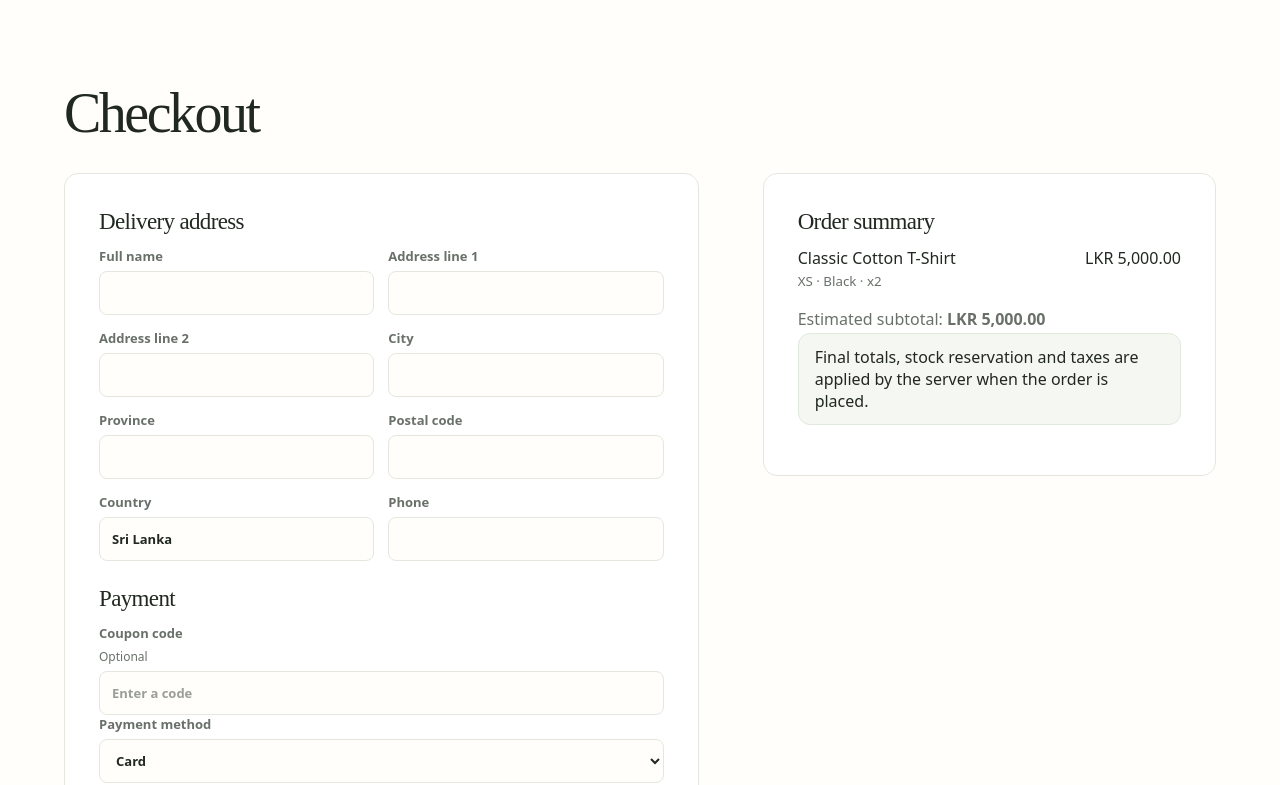
Test: CheckoutPage › places the order and shows a confirmation
Expected: the heading "Checkout" is shown, x1=64 y1=82 x2=258 y2=144
In the field labelled "Full name": x=237, y=293 x1=99 y1=271 x2=374 y2=315, type "Asha Perera"
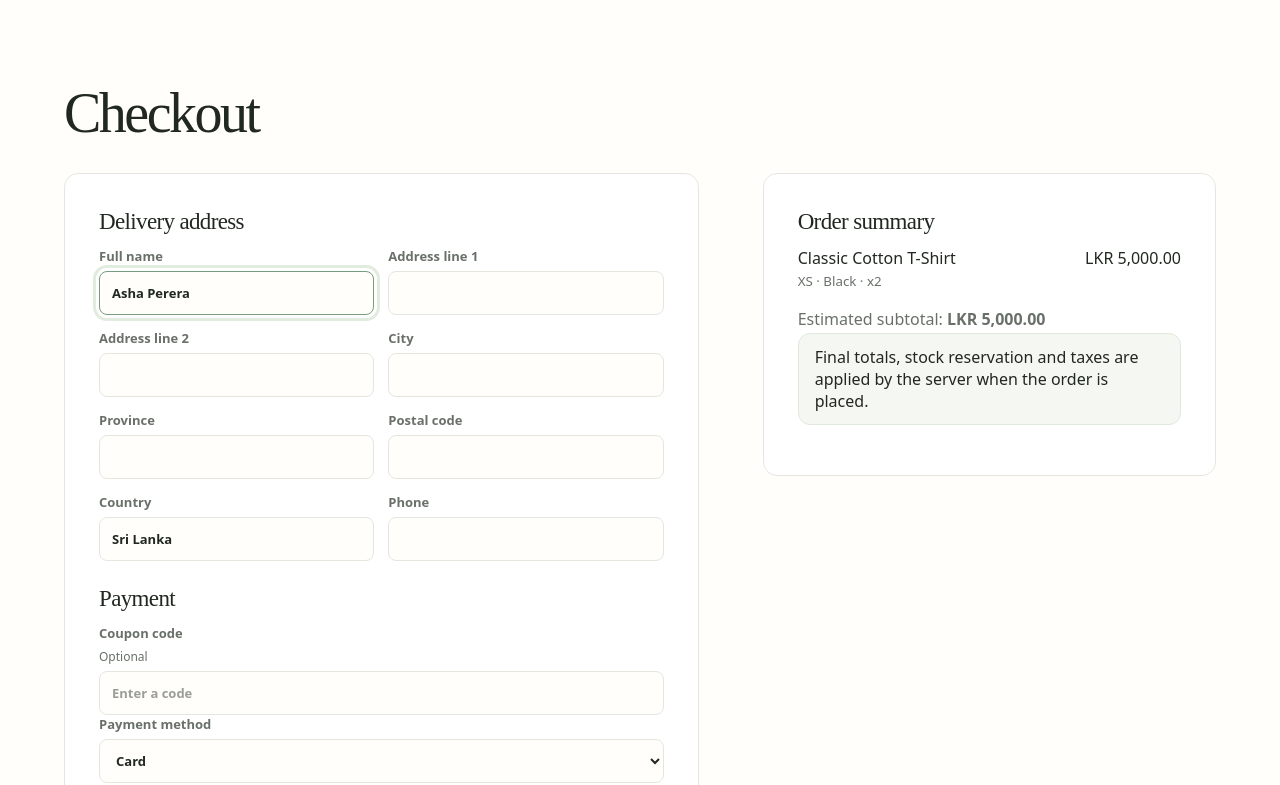
In the field labelled "Address line 1": x=526, y=293 x1=388 y1=271 x2=664 y2=315, type "12 Galle Road"
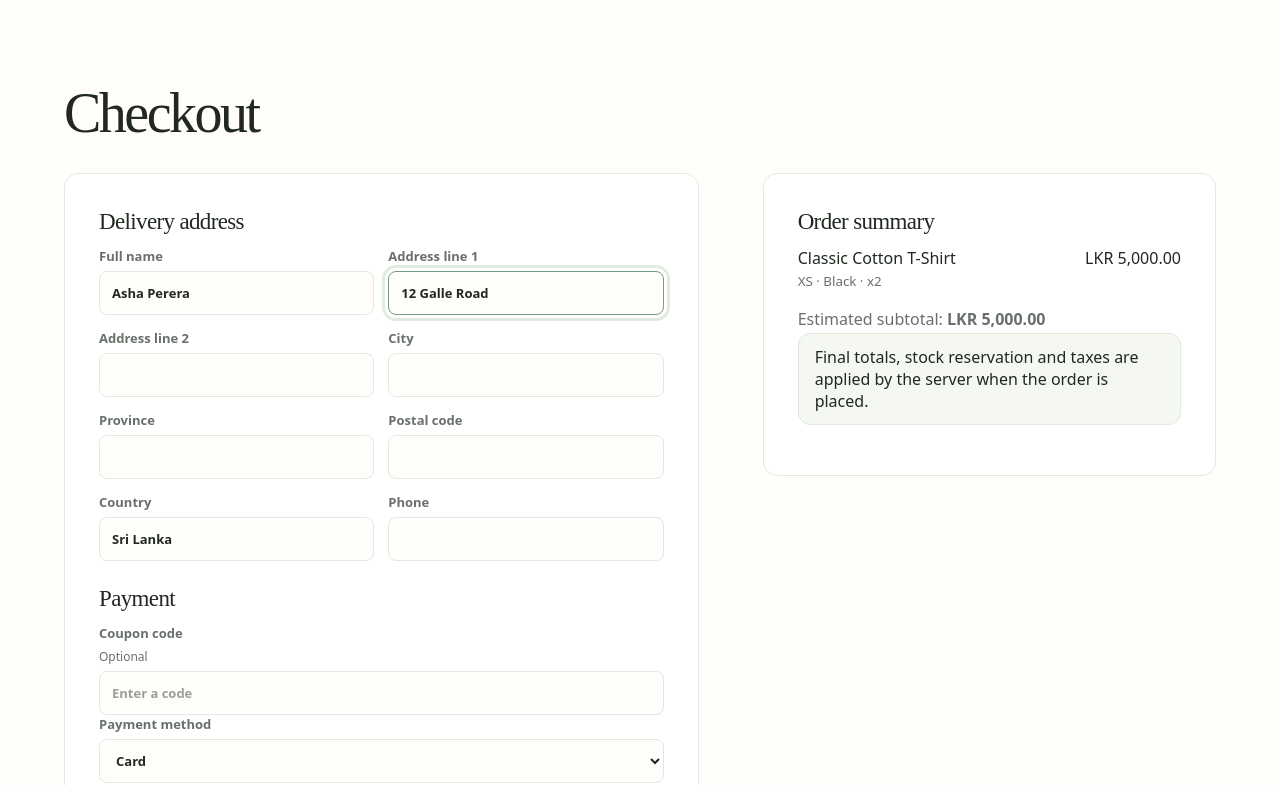
In the field labelled "City": x=526, y=375 x1=388 y1=353 x2=664 y2=397, type "Colombo"
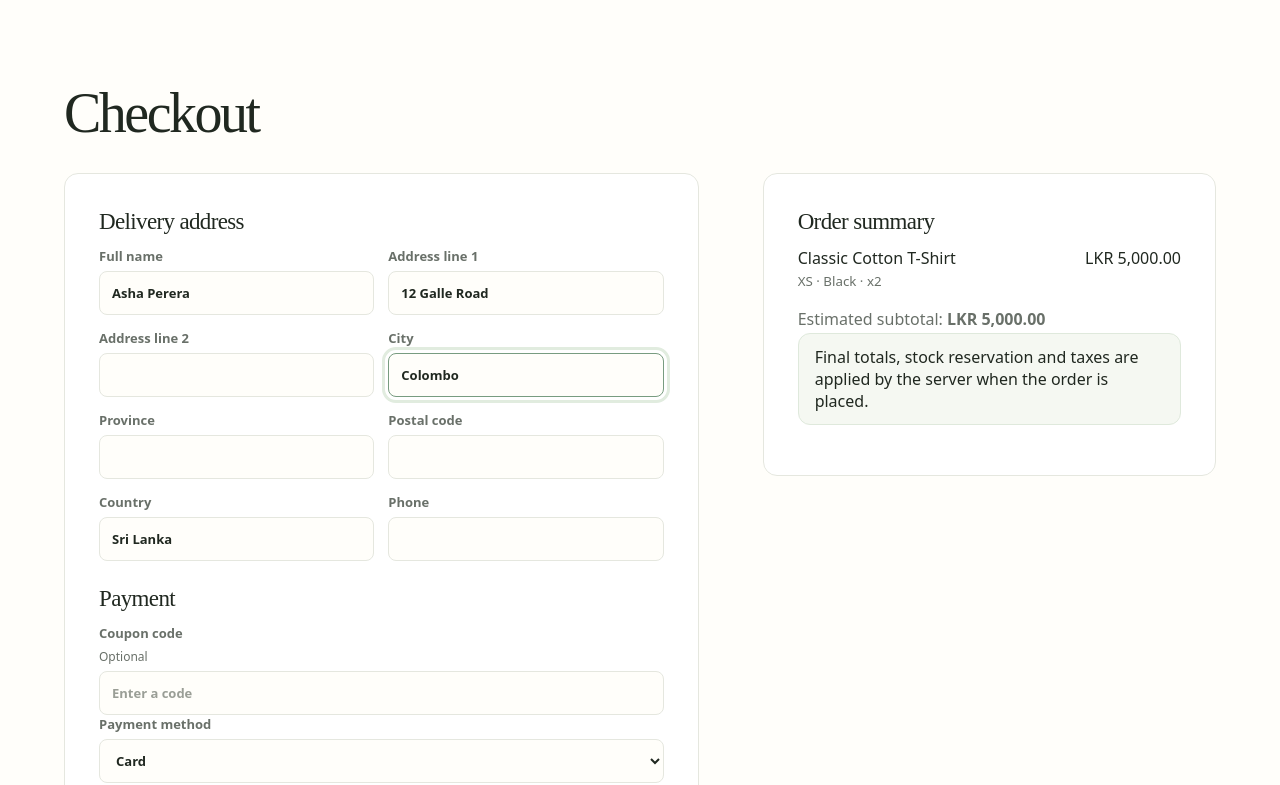
In the field labelled "Postal code": x=526, y=457 x1=388 y1=435 x2=664 y2=479, type "00300"
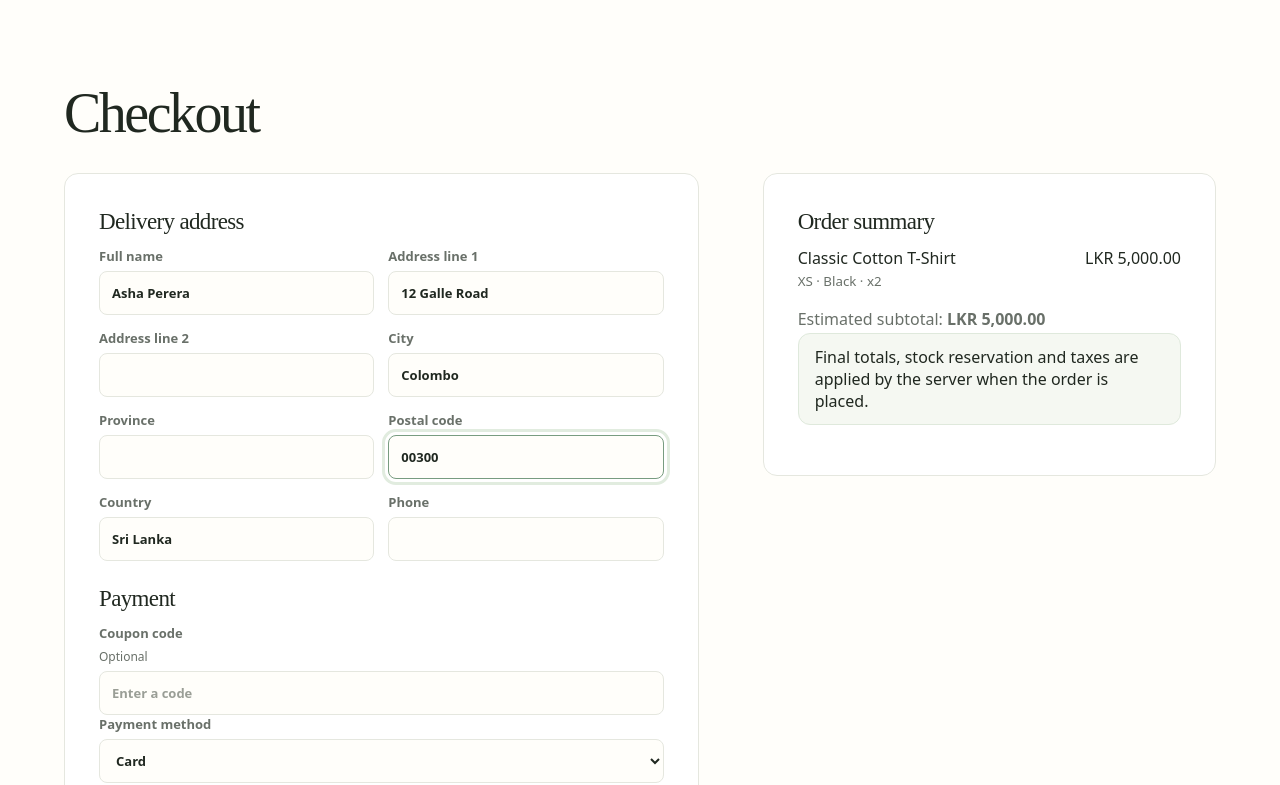
In the field labelled "Coupon code Optional": x=381, y=693 x1=99 y1=671 x2=664 y2=715, type "summer20"
(page scrolled)
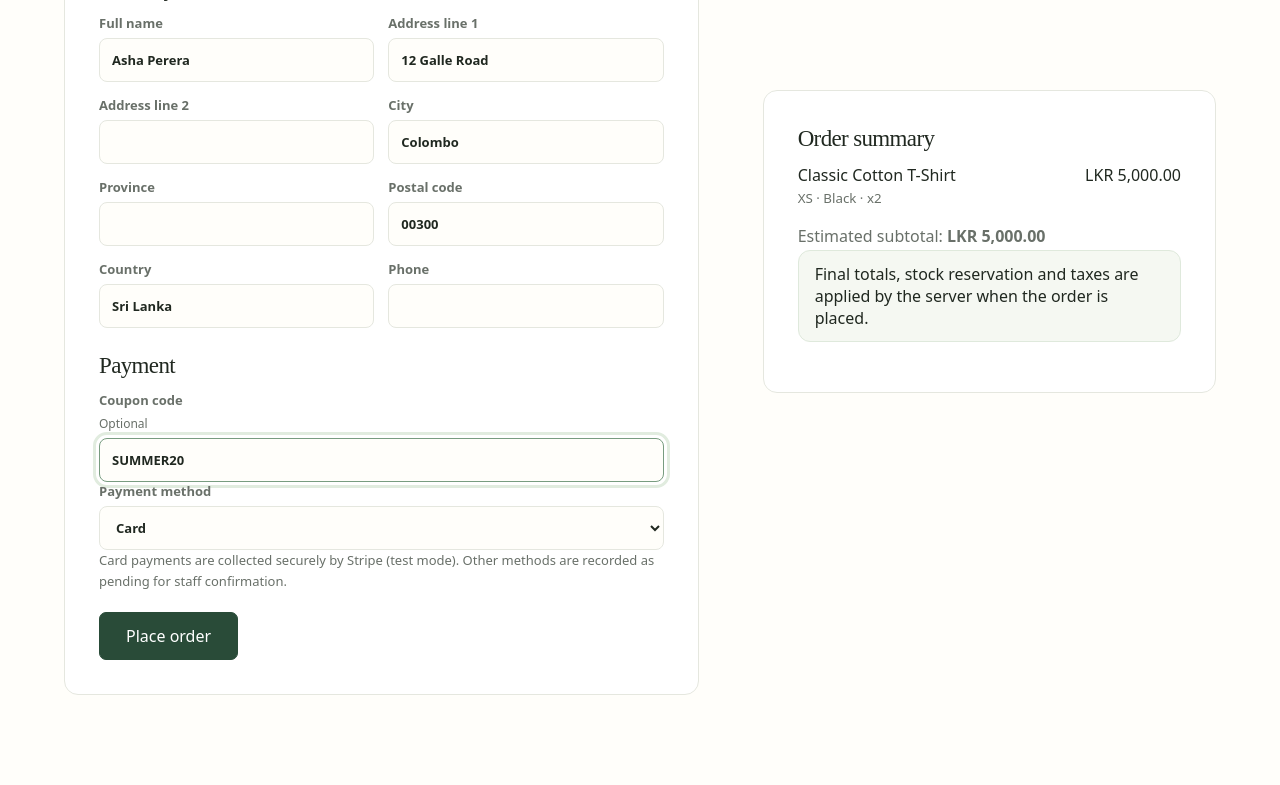
Click the button "Place order": x=169, y=636 x1=99 y1=612 x2=238 y2=660
(page scrolled)
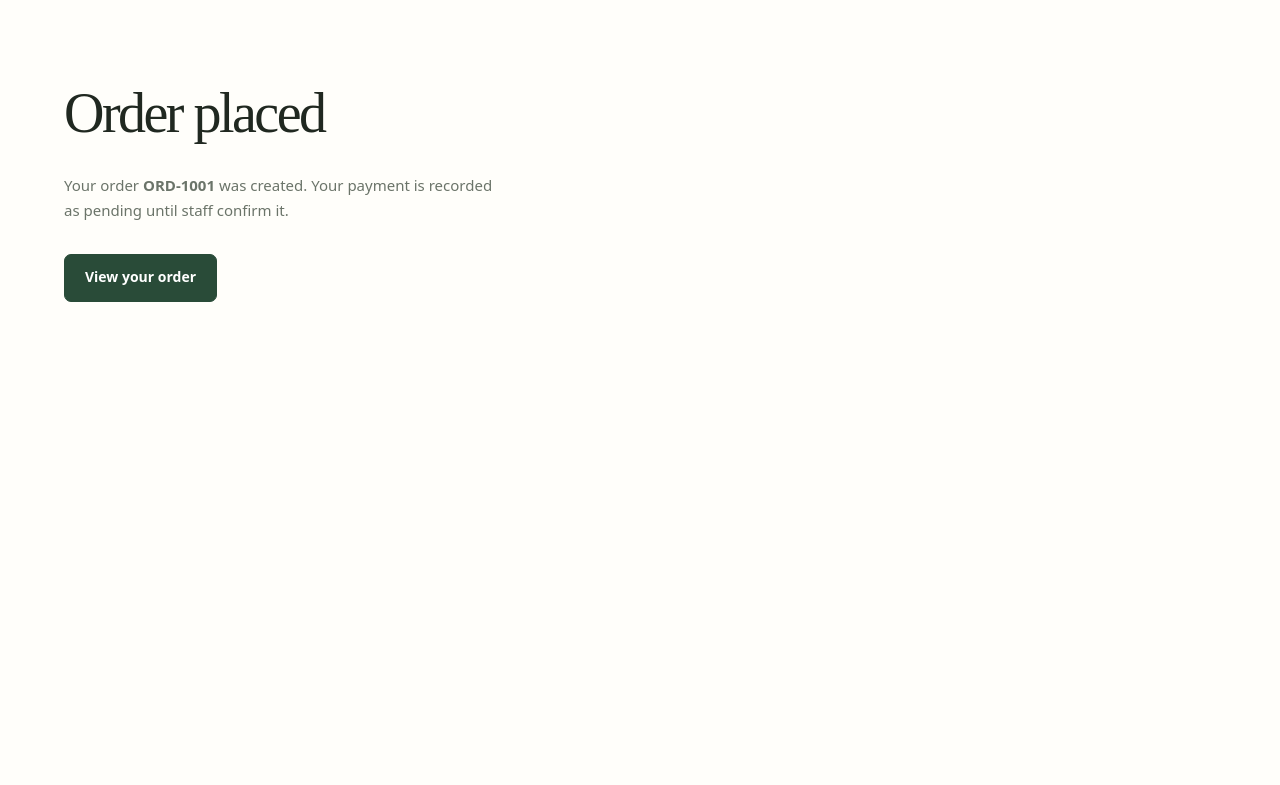
Result: the heading "Order placed" is shown at x1=64 y1=82 x2=324 y2=144
Result: the text "ORD-1001" is shown at x1=143 y1=175 x2=215 y2=195
